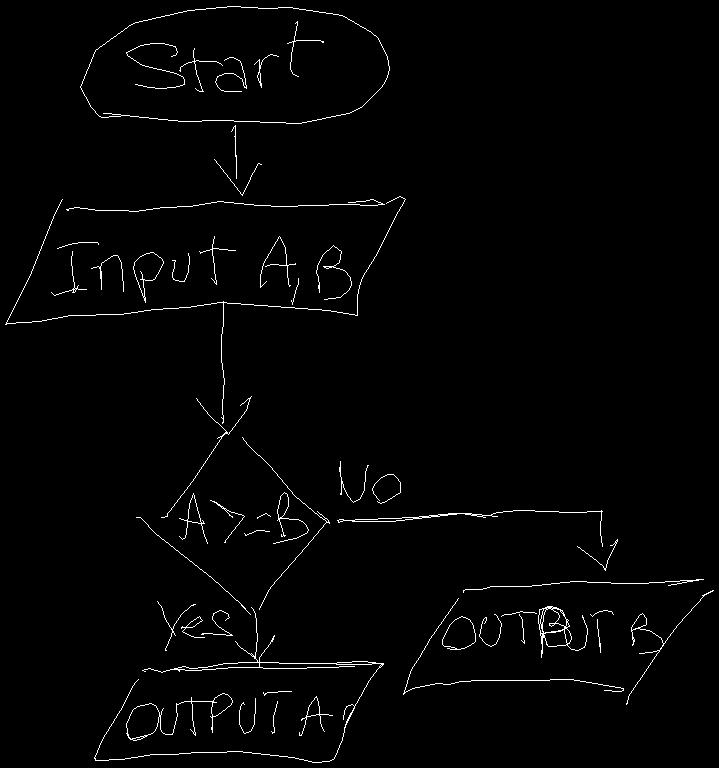arrow: (337, 510, 617, 570), (196, 301, 251, 434), (214, 125, 261, 195), (235, 607, 274, 666)
data: (5, 196, 405, 324), (403, 579, 713, 704), (94, 661, 383, 762)
decision: (136, 431, 329, 614)
terminator: (80, 6, 389, 123)
text: (51, 236, 351, 304), (126, 21, 323, 91), (442, 606, 663, 657), (126, 691, 332, 740), (179, 492, 308, 543), (157, 601, 232, 650), (339, 461, 400, 503)
